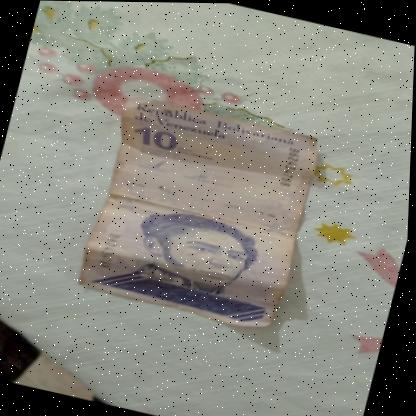ten-front-vef: (76, 92, 324, 333)
